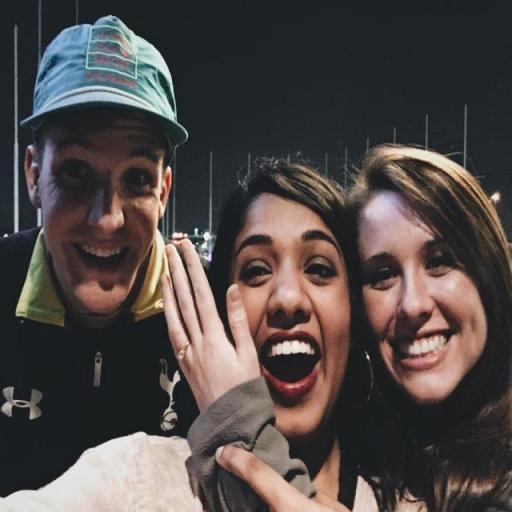Under Armour: (0, 384, 46, 421)
